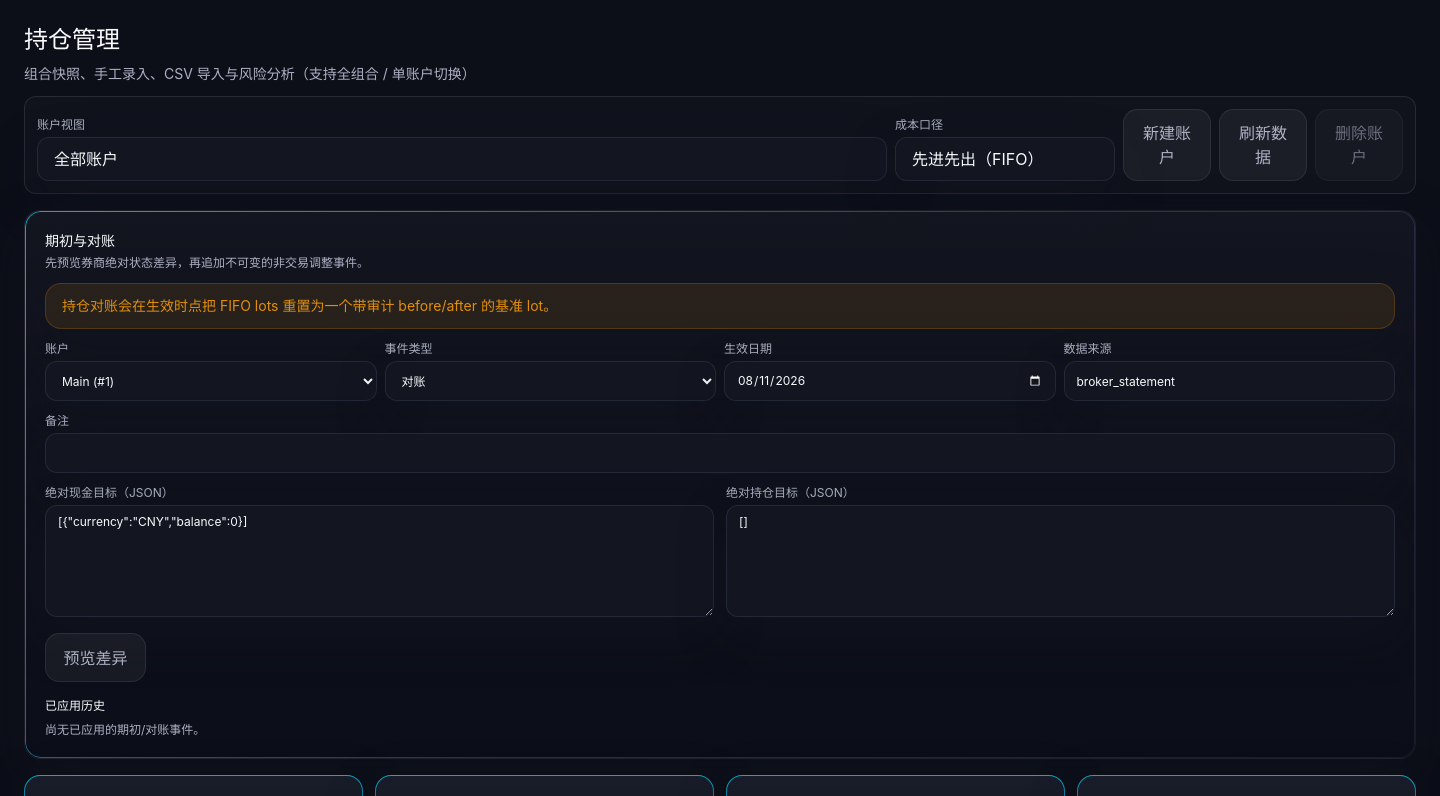
PortfolioPage FX refresh › drops late FX refresh results after switching to another account scope
Select "Main (#1)" in the 1st dropdown: (462, 159) [37,137,887,181]
(page scrolled)
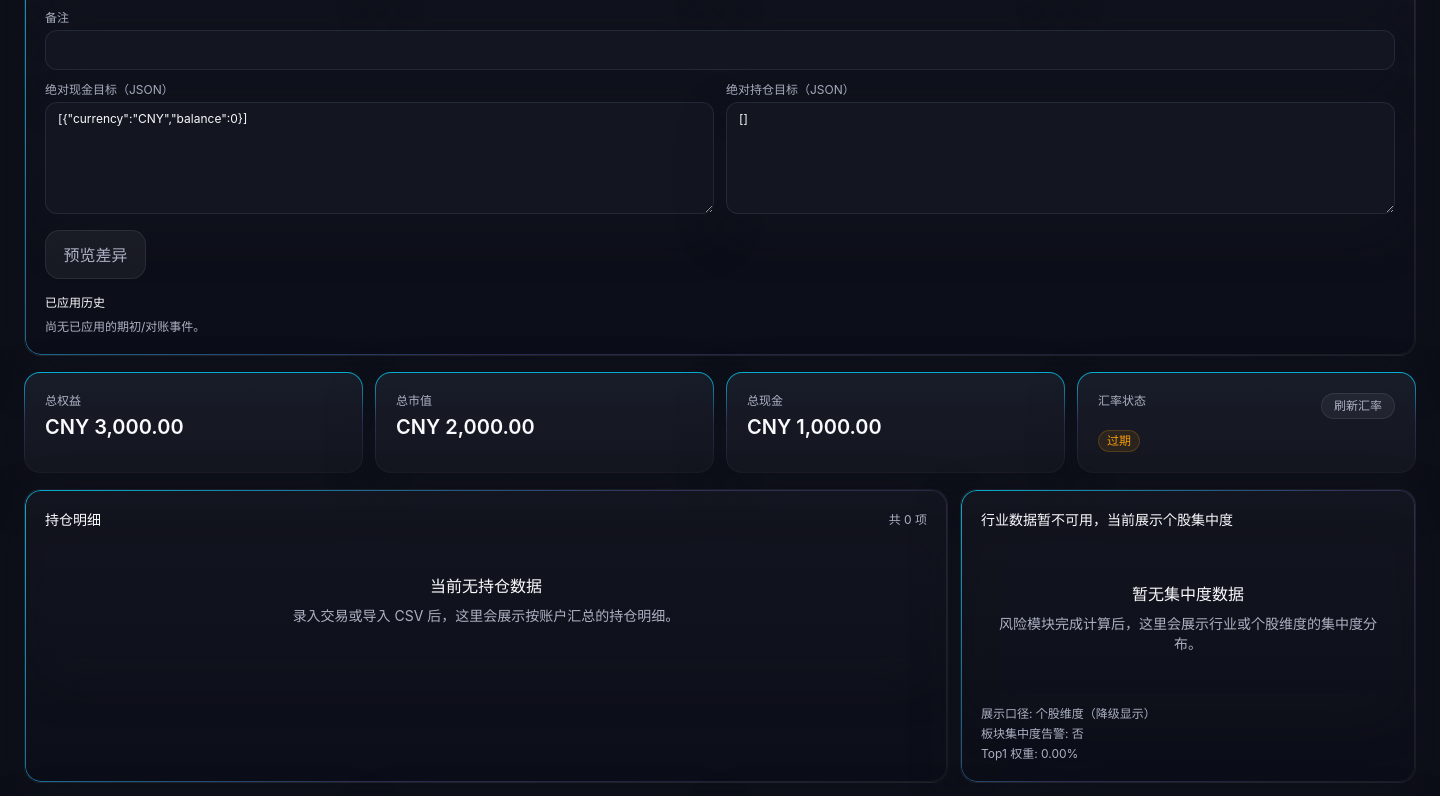
Click the button "刷新汇率": click(1358, 406) [1321,393,1395,419]
(page scrolled)
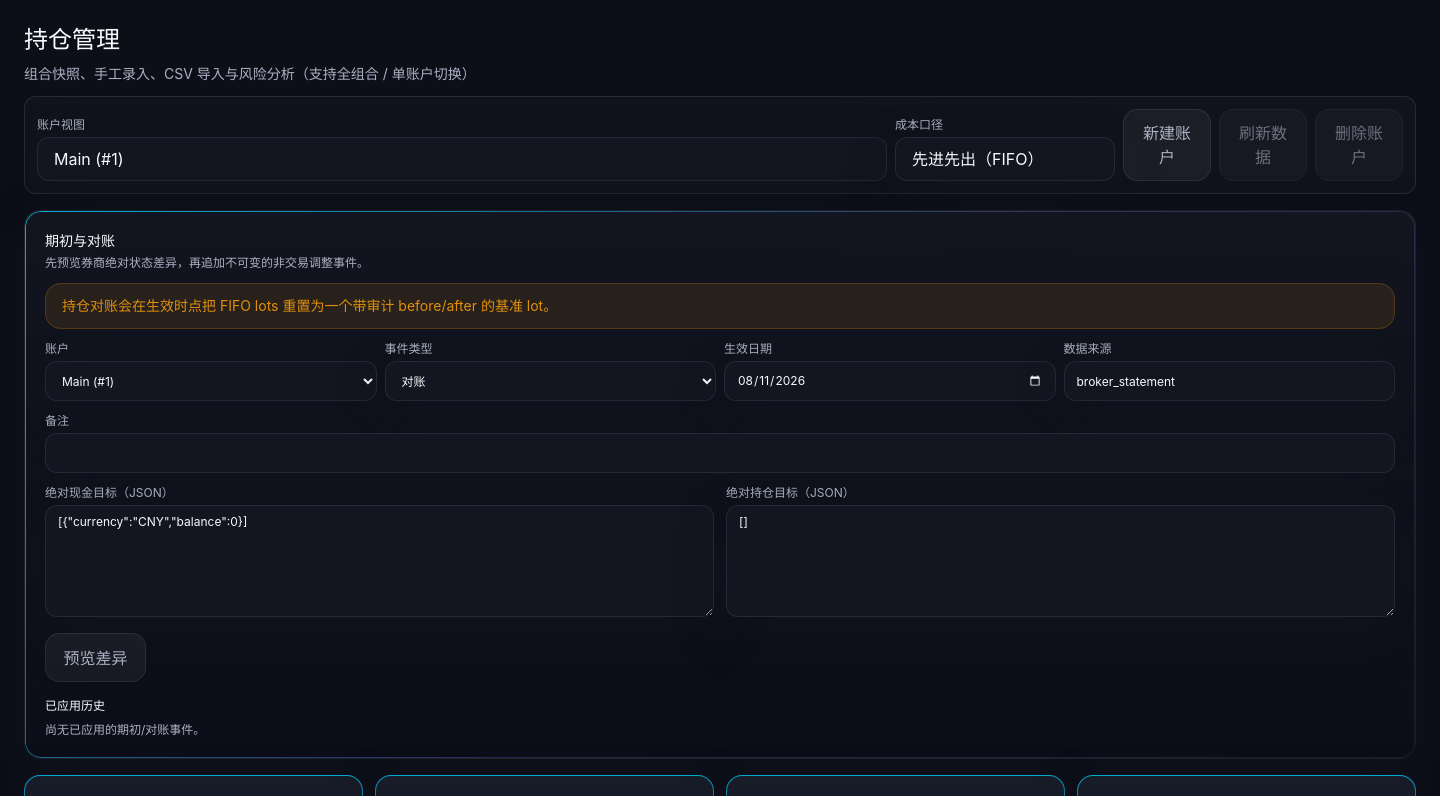
Select "Alt (#2)" in the dropdown below "账户视图": (462, 159) [37,137,887,181]
(page scrolled)
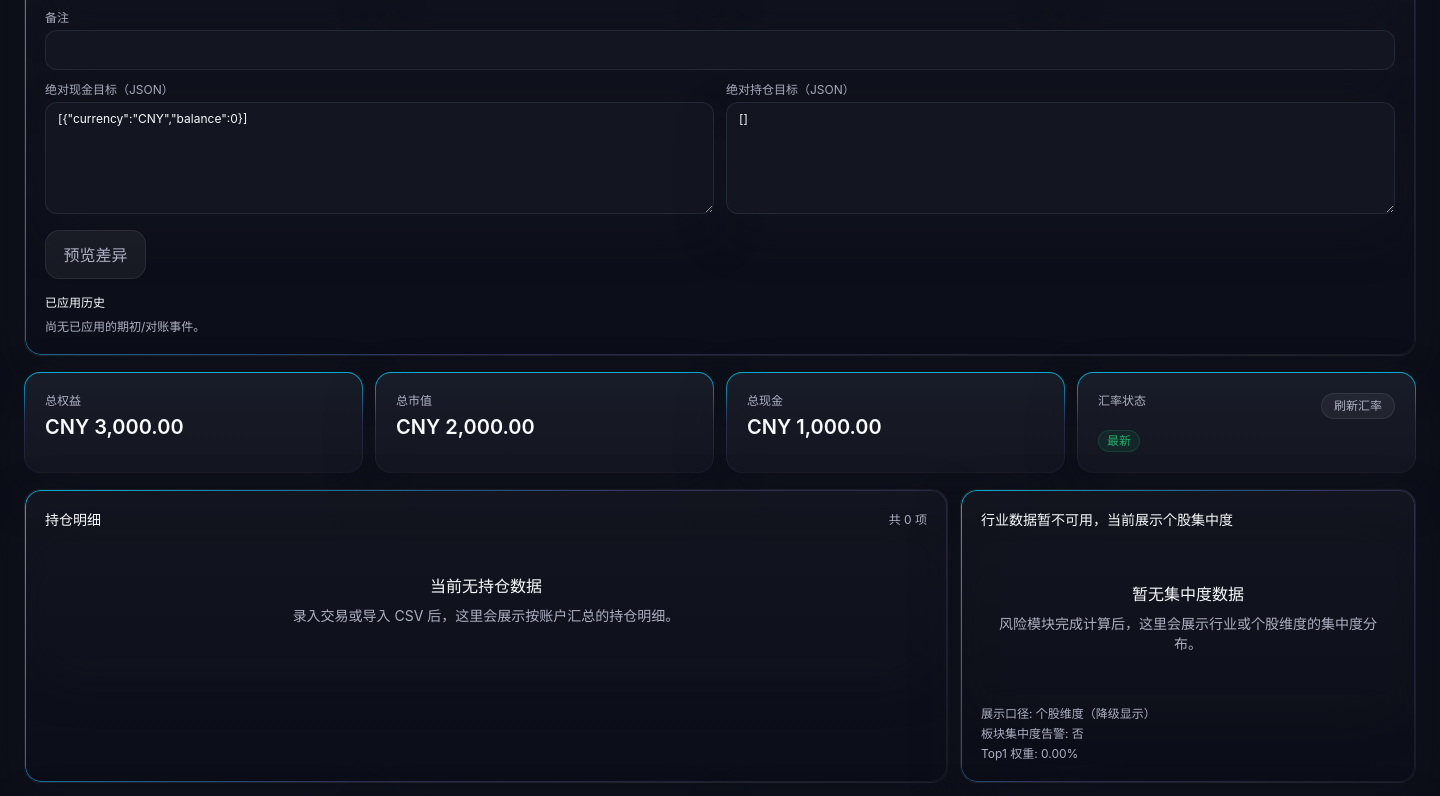
Result: the button "刷新汇率" is enabled at [1321,393,1395,419]
